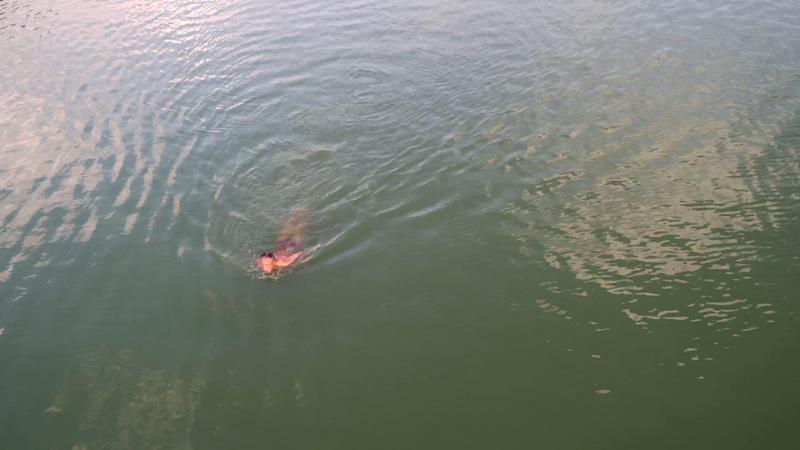passerby: (255, 206, 307, 275)
